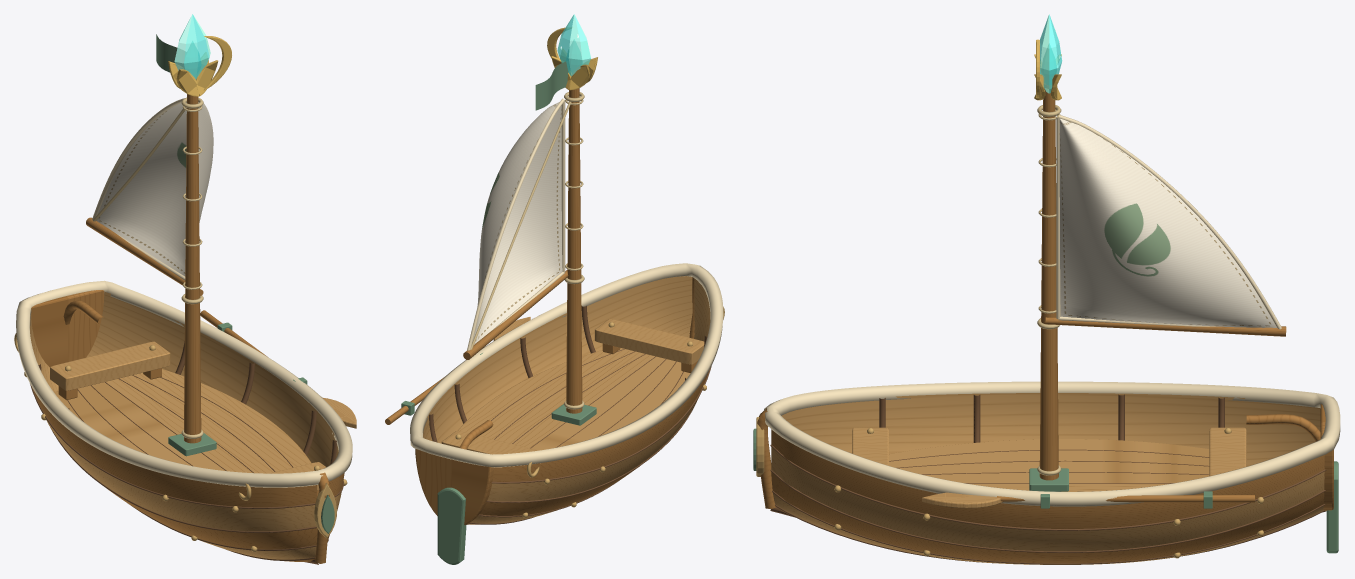
Rendered from wind-sail-boat.glb.
The picture shows the model from 3 angles, left to right: view 1: azimuth 30°, elevation 25°; view 2: azimuth 150°, elevation 25°; view 3: azimuth 270°, elevation 25°; orthographic projection. The views are drawn at different scales.
Visible parts, largest first — view 1: boat-hull, boat-deck, boat-sail-cloth, boat-rig, gold-leaf-cradle, crystal-facets, boat-sail; view 2: boat-hull, boat-deck, boat-sail-cloth, boat-rig, boat-sail, crystal-facets, gold-leaf-cradle; view 3: boat-hull, boat-sail-cloth, boat-deck, boat-rig, boat-sail, crystal-facets.
Boxes of the visible parts, x1=… form: boat-hull: x1=16, y1=280, x2=352, y2=564; boat-deck: x1=50, y1=341, x2=326, y2=496; boat-sail-cloth: x1=96, y1=102, x2=213, y2=276; boat-rig: x1=14, y1=34, x2=356, y2=500; gold-leaf-cradle: x1=168, y1=36, x2=231, y2=96; crystal-facets: x1=174, y1=14, x2=210, y2=79; boat-sail: x1=92, y1=98, x2=185, y2=280; boat-hull: x1=410, y1=263, x2=723, y2=524; boat-deck: x1=441, y1=319, x2=704, y2=454; boat-sail-cloth: x1=472, y1=102, x2=562, y2=344; boat-rig: x1=385, y1=61, x2=724, y2=564; boat-sail: x1=467, y1=98, x2=565, y2=350; crystal-facets: x1=557, y1=14, x2=590, y2=76; gold-leaf-cradle: x1=547, y1=27, x2=597, y2=90; boat-hull: x1=753, y1=381, x2=1340, y2=564; boat-sail-cloth: x1=1059, y1=118, x2=1276, y2=327; boat-deck: x1=852, y1=427, x2=1246, y2=491; boat-rig: x1=922, y1=84, x2=1338, y2=553; boat-sail: x1=1056, y1=115, x2=1281, y2=329; crystal-facets: x1=1040, y1=14, x2=1062, y2=93.
Bounding box in the file's own units: 2.15 × 4.52 × 4.43.
12 materials, 3 textured.
